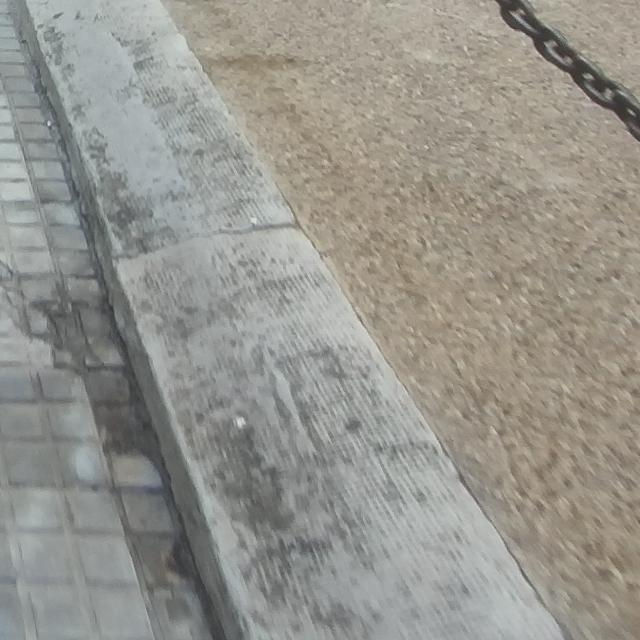calcada_quebrada: (0, 257, 133, 375)
